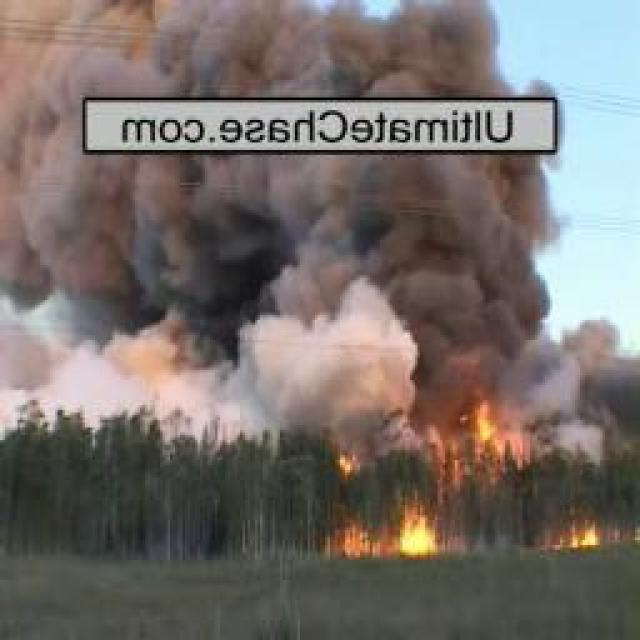Fire: (466, 386, 502, 442), (394, 505, 434, 555), (562, 524, 602, 548), (334, 526, 362, 552)
